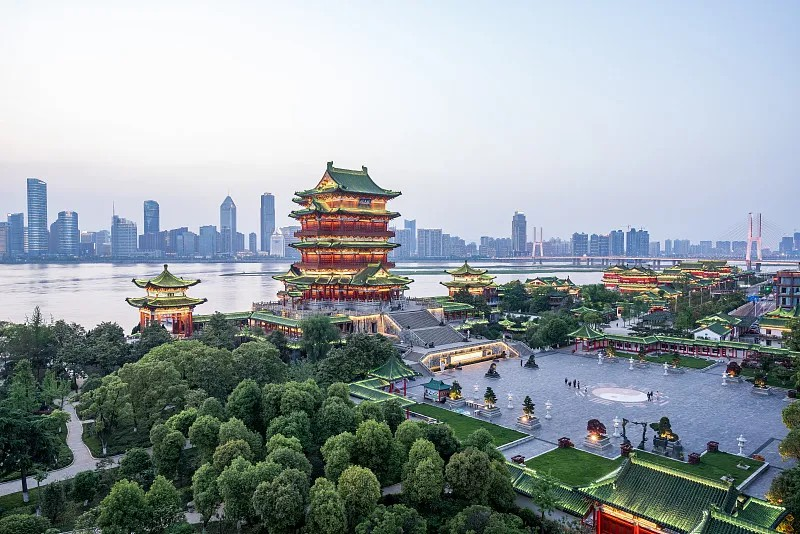Teng: (271, 161, 414, 306)
